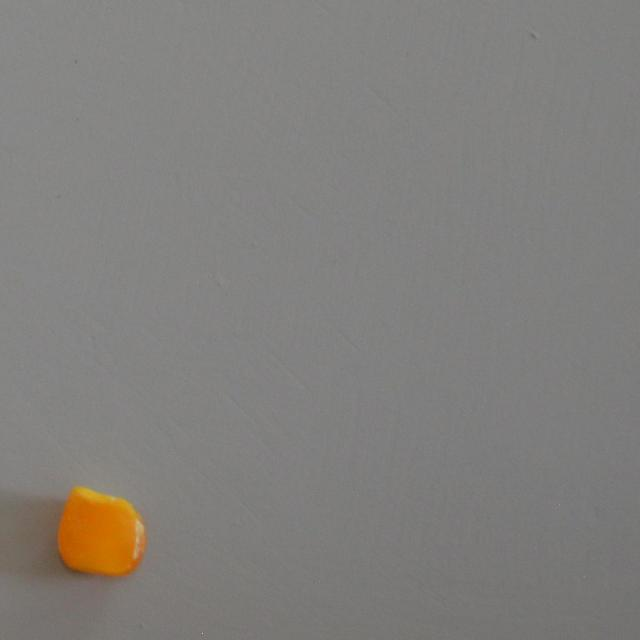dañado: (44, 478, 156, 580)
